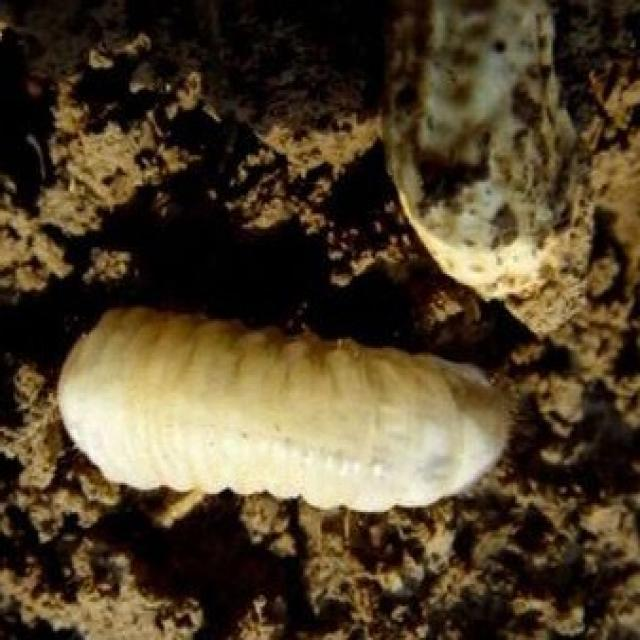grub: (39, 296, 523, 519)
